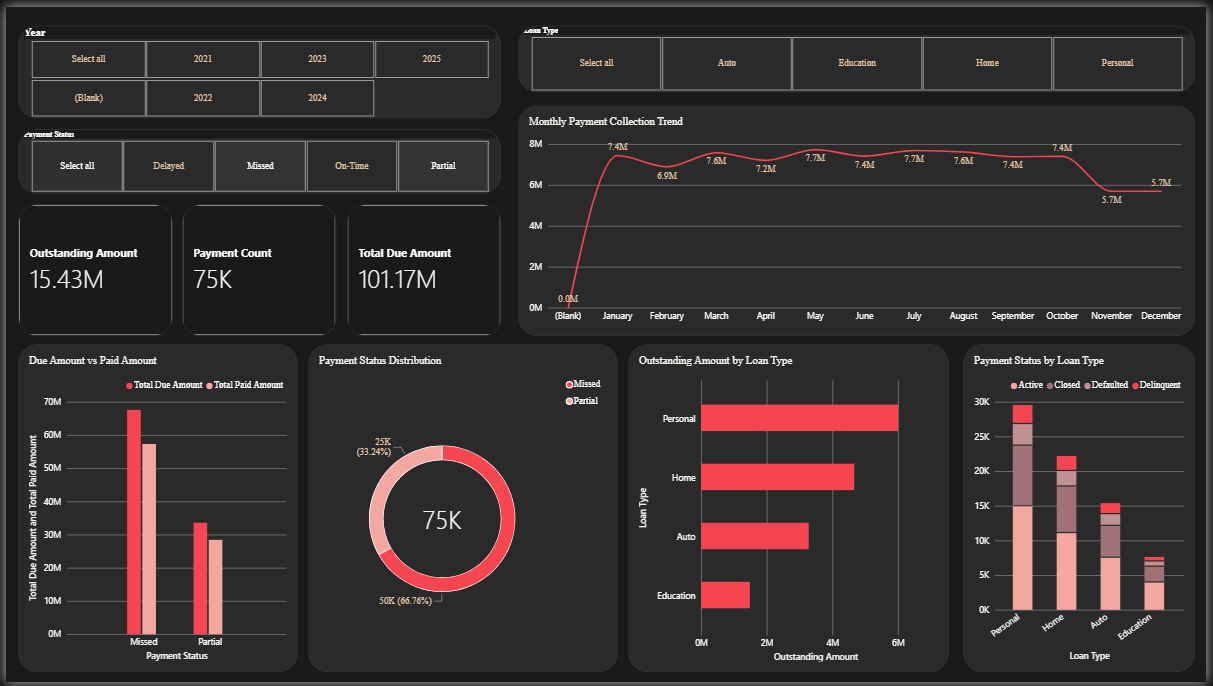

The page's visual inventory and layout, read from the dashboard file:
{"tool":"powerbi","page":{"name":"Payment & Collection Analysis","canvas":[1920,1080],"ordinal":1},"visuals":[{"type":"cardVisual","fields":{"Data":["customers.Total Due Amount"]},"box":[546,316,246,210],"z":0},{"type":"cardVisual","fields":{"Data":["customers.Outstanding Amount"]},"box":[20,316,246,210],"z":2000},{"type":"cardVisual","fields":{"Data":["customers.Payment Count"]},"box":[282,316,246,210],"z":3000},{"type":"donutChart","title":"Payment Status Distribution","fields":{"Category":["payments.Payment Status"],"Y":["customers.Payment Count"]},"box":[484,540,494,524],"z":4000},{"type":"clusteredColumnChart","title":"Due Amount vs Paid Amount","fields":{"Category":["payments.Payment Status"],"Y":["customers.Total Due Amount","customers.Total Paid Amount"]},"box":[20,540,446,524],"z":5000},{"type":"barChart","title":"Outstanding Amount by Loan Type","fields":{"Category":["loans.Loan Type"],"Y":["customers.Outstanding Amount"]},"box":[996,540,512,524],"z":6000},{"type":"lineChart","title":"Monthly Payment Collection Trend","fields":{"Category":["payments.Payment Date.Variation.Date Hierarchy.Month"],"Y":["customers.Total Paid Amount"]},"box":[820,158,1082,368],"z":7000},{"type":"columnChart","title":"Payment Status by Loan Type","fields":{"Category":["loans.Loan Type"],"Series":["loans.Loan Status"],"Y":["customers.Payment Count"]},"box":[1532,540,370,524],"z":8000},{"type":"slicer","fields":{"Values":["payments.Payment Status"]},"box":[20,196,772,102],"z":10000},{"type":"slicer","fields":{"Values":["payments.Payment Date.Variation.Date Hierarchy.Year"]},"box":[20,30,772,148],"z":11000},{"type":"slicer","fields":{"Values":["loans.Loan Type"]},"box":[820,30,1082,106],"z":12000}]}

Visuals, with their boxes in screenshot pixels (x1, y1, x2, y2), scaled from the page's 1920x1080 canvas onto the 1213x686 screenshot:
cardVisual - customers.Total Due Amount: bbox=[345, 201, 500, 334]
cardVisual - customers.Outstanding Amount: bbox=[13, 201, 168, 334]
cardVisual - customers.Payment Count: bbox=[178, 201, 334, 334]
"Payment Status Distribution" donutChart: bbox=[306, 343, 618, 676]
"Due Amount vs Paid Amount" clusteredColumnChart: bbox=[13, 343, 294, 676]
"Outstanding Amount by Loan Type" barChart: bbox=[629, 343, 953, 676]
"Monthly Payment Collection Trend" lineChart: bbox=[518, 100, 1202, 334]
"Payment Status by Loan Type" columnChart: bbox=[968, 343, 1202, 676]
slicer - payments.Payment Status: bbox=[13, 124, 500, 189]
slicer - payments.Payment Date.Variation.Date Hierarchy.Year: bbox=[13, 19, 500, 113]
slicer - loans.Loan Type: bbox=[518, 19, 1202, 86]
